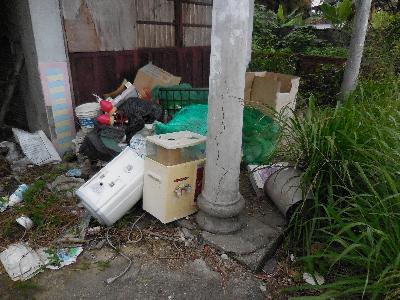bottle: (7, 183, 28, 207)
bowl: (16, 214, 33, 231)
box: (247, 72, 300, 125), (145, 128, 206, 164), (133, 64, 180, 99)
bucket: (263, 164, 319, 225), (74, 101, 105, 136)
plastic_bag: (109, 94, 166, 143), (150, 104, 209, 134)
